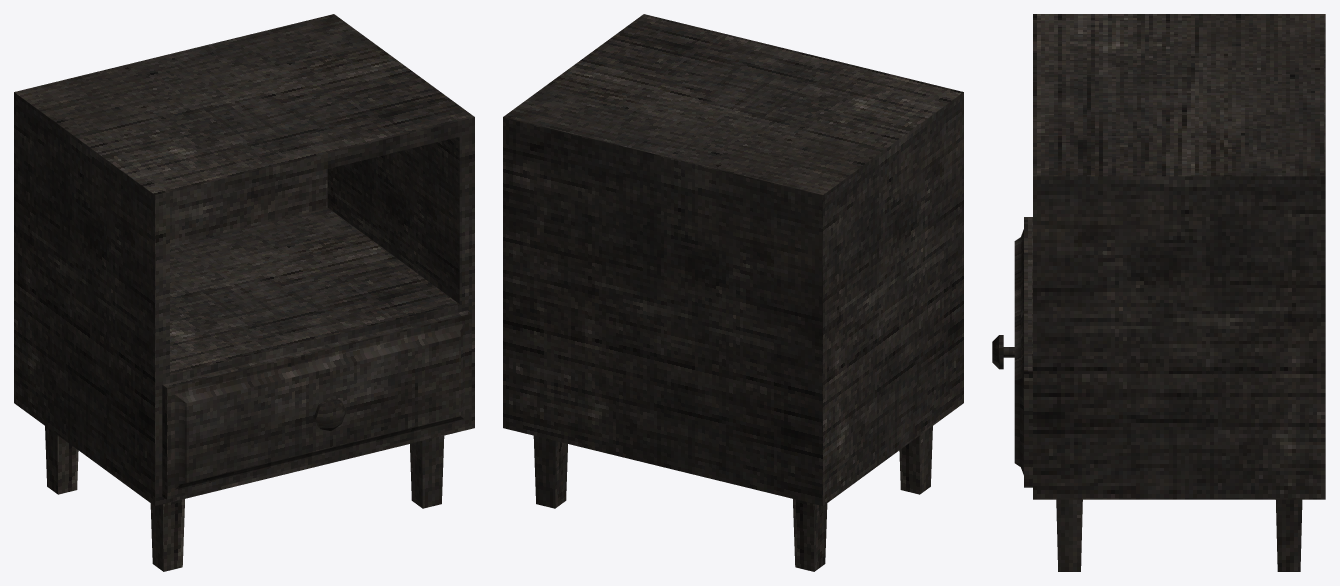
File: bedside_table_2.glb
3 views of the same model, side by side, from view 1: azimuth 30°, elevation 25°; view 2: azimuth 150°, elevation 25°; view 3: azimuth 270°, elevation 25° (orthographic). The views are drawn at different scales.
Parts seen in each view (by area): view 1: bedside_table_2, bedside_table_2_drawer; view 2: bedside_table_2; view 3: bedside_table_2, bedside_table_2_drawer.
Part boxes in pixels (x1,y1,x2,y2): bedside_table_2: (14, 14, 474, 571); bedside_table_2_drawer: (162, 310, 471, 499); bedside_table_2: (503, 14, 963, 571); bedside_table_2: (1033, 14, 1325, 571); bedside_table_2_drawer: (992, 217, 1032, 487).
Bounding box in the file's own units: 0.504 × 0.588 × 0.4374.
Materials: 1 (1 with a texture image).
